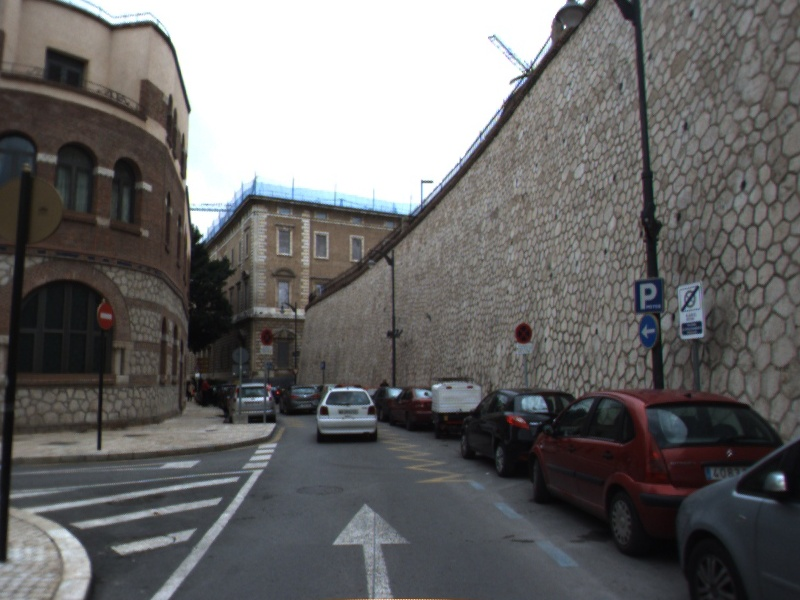STRAIGHT: (330, 501, 412, 600)
